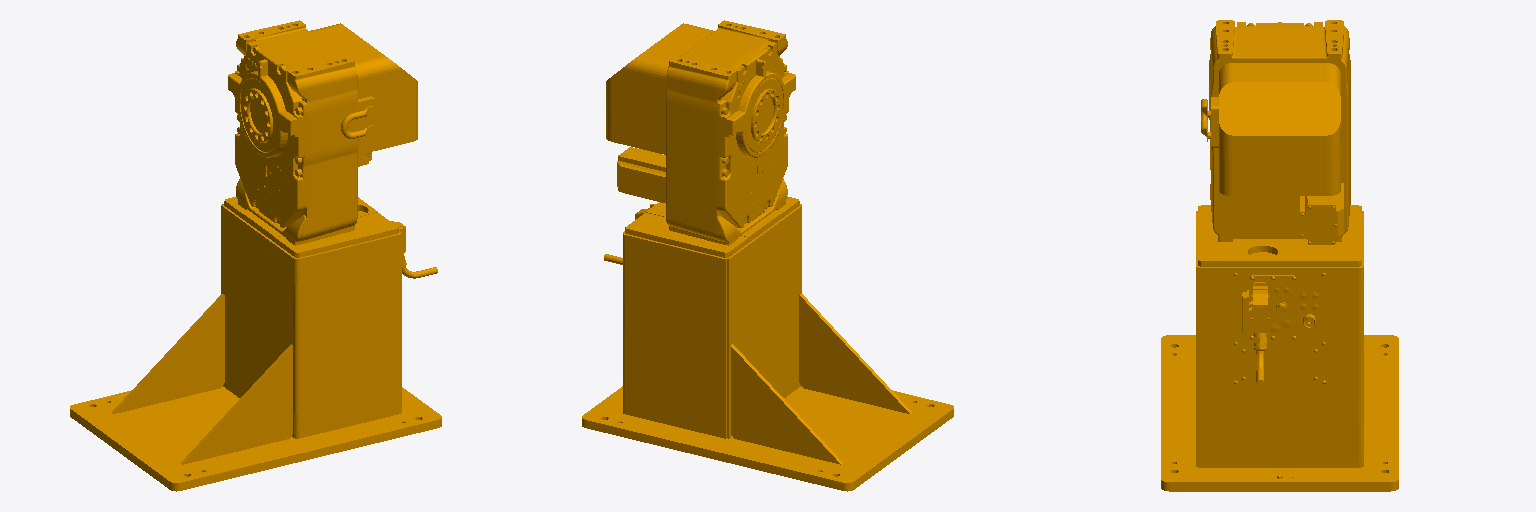
URDF robot description (Irbpa-500_D1450-H900_IRC5_rev02_CAD):
<?xml version="1.0" ?>
<robot name="Irbpa-500_D1450-H900_IRC5_rev02_CAD">

<link name="base_link">
  <inertial>
    <origin xyz="0.9160462992333828 0.001220924188015174 0.4703385051476699" rpy="0 0 0"/>
    <mass value="1936.8392986453007"/>
    <inertia ixx="342.738078" iyy="355.688976" izz="89.352896" ixy="-0.314378" iyz="-0.613083" ixz="-30.932763"/>
  </inertial>
  <visual>
    <origin xyz="0 0 0" rpy="0 0 0"/>
    <geometry>
      <mesh filename="package://Irbpa-500_D1450-H900_IRC5_rev02_CAD_description/meshes/base_link.stl" scale="0.001 0.001 0.001"/>
    </geometry>
    <material name="silver"/>
  </visual>
  <collision>
    <origin xyz="0 0 0" rpy="0 0 0"/>
    <geometry>
      <mesh filename="package://Irbpa-500_D1450-H900_IRC5_rev02_CAD_description/meshes/base_link.stl" scale="0.001 0.001 0.001"/>
    </geometry>
  </collision>
</link>

<link name="Irbpa-500_D1450-H900_IRC5_rev02_arm500A_CAD_1">
  <inertial>
    <origin xyz="-0.7125104505241127 -0.0032796304127171165 -0.3647933186230975" rpy="0 0 0"/>
    <mass value="519.303264578469"/>
    <inertia ixx="22.626406" iyy="78.303916" izz="66.64645" ixy="-0.043181" iyz="-0.336" ixz="-25.248478"/>
  </inertial>
  <visual>
    <origin xyz="-0.722 0.0 -1.0" rpy="0 0 0"/>
    <geometry>
      <mesh filename="package://Irbpa-500_D1450-H900_IRC5_rev02_CAD_description/meshes/Irbpa-500_D1450-H900_IRC5_rev02_arm500A_CAD_1.stl" scale="0.001 0.001 0.001"/>
    </geometry>
    <material name="silver"/>
  </visual>
  <collision>
    <origin xyz="-0.722 0.0 -1.0" rpy="0 0 0"/>
    <geometry>
      <mesh filename="package://Irbpa-500_D1450-H900_IRC5_rev02_CAD_description/meshes/Irbpa-500_D1450-H900_IRC5_rev02_arm500A_CAD_1.stl" scale="0.001 0.001 0.001"/>
    </geometry>
  </collision>
</link>

<link name="Irbpa-500_D1450-H900_IRC5_rev02_platter_d450_CAD_1">
  <inertial>
    <origin xyz="-0.0011124864300724735 -2.1966854710266646e-07 0.0433678654247619" rpy="0 0 0"/>
    <mass value="21.25030383337227"/>
    <inertia ixx="0.228504" iyy="0.231342" izz="0.446816" ixy="0.0" iyz="0.0" ixz="-0.000583"/>
  </inertial>
  <visual>
    <origin xyz="0.225 -5e-06 -0.738" rpy="0 0 0"/>
    <geometry>
      <mesh filename="package://Irbpa-500_D1450-H900_IRC5_rev02_CAD_description/meshes/Irbpa-500_D1450-H900_IRC5_rev02_platter_d450_CAD_1.stl" scale="0.001 0.001 0.001"/>
    </geometry>
    <material name="silver"/>
  </visual>
  <collision>
    <origin xyz="0.225 -5e-06 -0.738" rpy="0 0 0"/>
    <geometry>
      <mesh filename="package://Irbpa-500_D1450-H900_IRC5_rev02_CAD_description/meshes/Irbpa-500_D1450-H900_IRC5_rev02_platter_d450_CAD_1.stl" scale="0.001 0.001 0.001"/>
    </geometry>
  </collision>
</link>

<joint name="j1" type="continuous">
  <origin xyz="0.722 0.0 1.0" rpy="0 0 0"/>
  <parent link="base_link"/>
  <child link="Irbpa-500_D1450-H900_IRC5_rev02_arm500A_CAD_1"/>
  <axis xyz="-1.0 0.0 0.0"/>
</joint>

<joint name="j2" type="continuous">
  <origin xyz="-0.947 5e-06 -0.262" rpy="0 0 0"/>
  <parent link="Irbpa-500_D1450-H900_IRC5_rev02_arm500A_CAD_1"/>
  <child link="Irbpa-500_D1450-H900_IRC5_rev02_platter_d450_CAD_1"/>
  <axis xyz="-0.0 0.0 -1.0"/>
</joint>

</robot>

--- Render facts (derived) ---
3 views of the same robot in one strip: view 1: azimuth 30°, elevation 25°; view 2: azimuth 150°, elevation 25°; view 3: azimuth 270°, elevation 25° (orthographic).
Model Irbpa-500_D1450-H900_IRC5_rev02_CAD with 3 links and 2 joints (2 continuous), rooted at base_link, posed all joints at 0.
Visible links, largest first — view 1: base_link; view 2: base_link; view 3: base_link.
Link boxes in pixels (<box>): base_link: <box>70,20,441,491</box>; base_link: <box>582,20,953,491</box>; base_link: <box>1161,20,1398,491</box>.
Size in the robot's own frame: 1.16 by 0.7 by 1.31 metres.
1 mesh visuals loaded from 3 distinct referenced files (1 binary STL); not drawn: 2 (reference not matched to a file when rendering).